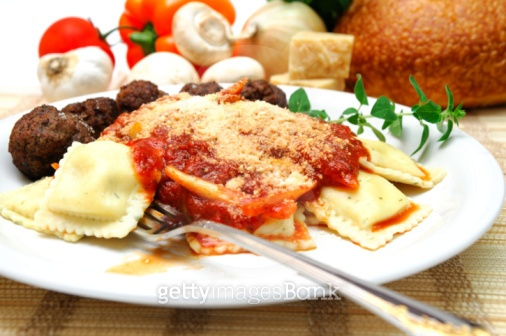meatballs: (6, 99, 81, 174), (69, 87, 120, 143), (117, 75, 164, 111)
